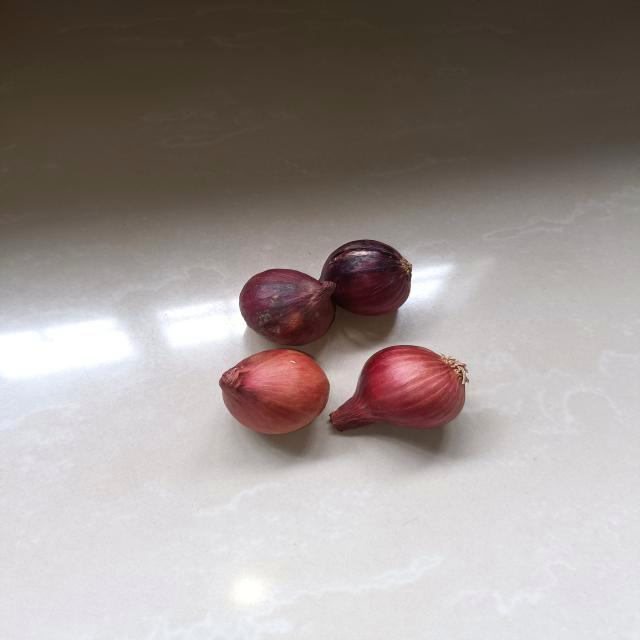onion: (321, 338, 475, 442), (208, 346, 335, 440), (316, 236, 423, 318), (235, 265, 338, 350)
